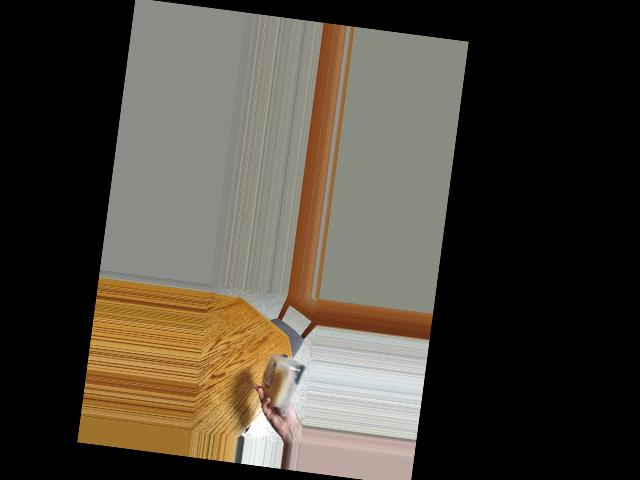cheese: (256, 349, 306, 412)
